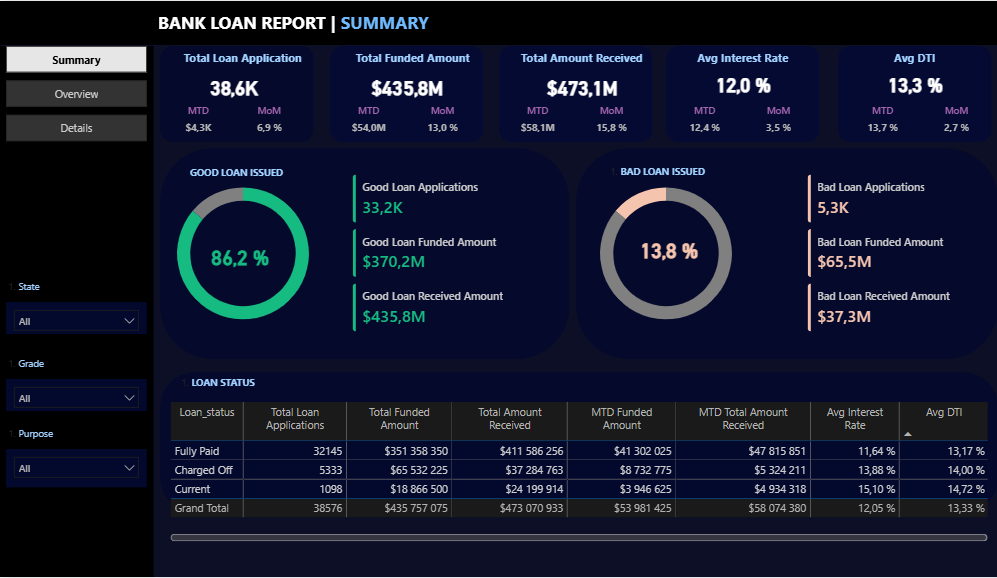

The dashboard page shown, as its layout file describes it:
{"tool":"powerbi","page":{"name":"Summary","canvas":[1280,720],"ordinal":0},"visuals":[{"type":"shape","box":[0,0,1280,55],"z":0},{"type":"shape","box":[200,56,192,120],"z":0,"group":"g2"},{"type":"shape","box":[412,56,192,120],"z":0,"group":"g1"},{"type":"shape","box":[624,56,192,120],"z":0,"group":"g4"},{"type":"shape","box":[832,56,192,120],"z":0,"group":"g3"},{"type":"shape","box":[1048,56,192,120],"z":0,"group":"g5"},{"type":"shape","box":[0,56,192,664],"z":1000},{"type":"textbox","box":[192,8,448,48],"z":2000},{"type":"shape","box":[200,184,512,264],"z":3000},{"type":"group","id":"g1","title":"Group 1","box":[412,56,200,120],"z":4000},{"type":"card","fields":{"Values":["financial.Total Loan Applications"]},"box":[232,80,120,56],"z":4000,"group":"g2"},{"type":"card","fields":{"Values":["financial.Total Funded Amount"]},"box":[444,80,128,56],"z":4000,"group":"g1"},{"type":"card","fields":{"Values":["financial.Total Amount Received"]},"box":[664,80,128,56],"z":4000,"group":"g4"},{"type":"card","fields":{"Values":["financial.Avg Interest Rate"]},"box":[864,80,128,48],"z":4000,"group":"g3"},{"type":"card","fields":{"Values":["financial.Avg DTI"]},"box":[1080,80,128,48],"z":4000,"group":"g5"},{"type":"group","id":"g2","title":"Group 1","box":[200,56,200,120],"z":5000},{"type":"textbox","box":[208,56,192,32],"z":5000,"group":"g2"},{"type":"textbox","box":[420,56,192,32],"z":5000,"group":"g1"},{"type":"textbox","box":[632,56,192,32],"z":5000,"group":"g4"},{"type":"textbox","box":[832,56,192,32],"z":5000,"group":"g3"},{"type":"textbox","box":[1048,56,192,32],"z":5000,"group":"g5"},{"type":"card","title":"MTD","fields":{"Values":["financial.MTD Loan Applications"]},"box":[224,128,48,48],"z":6000,"group":"g2"},{"type":"card","title":"MTD","fields":{"Values":["financial.MTD Funded Amount"]},"box":[428,128,64,48],"z":6000,"group":"g1"},{"type":"card","title":"MTD","fields":{"Values":["financial.MTD Total Amount Received"]},"box":[640,128,64,48],"z":6000,"group":"g4"},{"type":"card","title":"MTD","fields":{"Values":["financial.MTD Avg Int Rate"]},"box":[848,128,64,48],"z":6000,"group":"g3"},{"type":"card","title":"MTD","fields":{"Values":["financial.MTD Avg DTI"]},"box":[1072,128,64,48],"z":6000,"group":"g5"},{"type":"card","fields":{"Values":["financial.Good Loan %"]},"box":[240,296,120,48],"z":6000},{"type":"group","id":"g3","title":"Group 1","box":[832,56,192,120],"z":7000},{"type":"card","title":"MoM","fields":{"Values":["financial.MoM Loan Aplications"]},"box":[312,128,48,48],"z":7000,"group":"g2"},{"type":"card","title":"MoM","fields":{"Values":["financial.MoM Funded Amount"]},"box":[524,128,56,48],"z":7000,"group":"g1"},{"type":"card","title":"MoM","fields":{"Values":["financial.MoM Amount Received"]},"box":[736,128,56,48],"z":7000,"group":"g4"},{"type":"card","title":"MoM","fields":{"Values":["financial.MoM Avg Int Rate"]},"box":[944,128,56,48],"z":7000,"group":"g3"},{"type":"card","title":"MoM","fields":{"Values":["financial.MoM Avg DTI"]},"box":[1168,128,56,48],"z":7000,"group":"g5"},{"type":"group","id":"g4","title":"Group 1","box":[624,56,200,120],"z":8000},{"type":"group","id":"g5","title":"Group 1","box":[1048,56,192,120],"z":9000},{"type":"shape","box":[720,184,528,264],"z":10000},{"type":"donutChart","fields":{"Category":["financial.Good Bad Loans"],"Y":["financial.Total Loan Applications"]},"box":[184,208,240,216],"z":11000},{"type":"textbox","box":[232,200,160,32],"z":12000},{"type":"cardVisual","fields":{"Data":["financial.Good Loan Applications","financial.Good Loan Funded Amount","financial.Good Loan Received Amount"]},"box":[424,200,240,232],"z":13000},{"type":"shape","box":[200,464,1048,176],"z":14000},{"type":"donutChart","fields":{"Category":["financial.Good Bad Loans"],"Y":["financial.Total Loan Applications"]},"box":[712,208,240,216],"z":15000},{"type":"textbox","box":[752,200,168,32],"z":16000},{"type":"card","fields":{"Values":["financial.Bad Loan %"]},"box":[776,288,120,48],"z":17000},{"type":"cardVisual","fields":{"Data":["financial.Bad Loan Applications","financial.Bad Loan Funded Amount","financial.Bad Loan Received Amount"]},"box":[992,200,240,232],"z":18000},{"type":"tableEx","fields":{"Values":["financial.loan_status","financial.Total Loan Applications","financial.Total Funded Amount","financial.Total Amount Received","financial.MTD Funded Amount","financial.MTD Total Amount Received","financial.Avg Interest Rate","financial.Avg DTI"]},"box":[208,496,1032,184],"z":19000},{"type":"textbox","box":[216,464,168,32],"z":20000},{"type":"slicer","fields":{"Values":["financial.address_state"]},"box":[8,376,176,40],"z":21000},{"type":"textbox","box":[0,344,168,32],"z":22000},{"type":"slicer","fields":{"Values":["financial.grade"]},"box":[8,472,176,40],"z":23000},{"type":"textbox","box":[0,440,168,32],"z":24000},{"type":"textbox","box":[0,528,176,32],"z":25000},{"type":"slicer","fields":{"Values":["financial.purpose"]},"box":[8,560,176,48],"z":26000},{"type":"pageNavigator","box":[8,56,176,120],"z":27000}]}

Visuals, with their boxes in screenshot pixels (x1, y1, x2, y2), scaled from the page's 1280x720 canvas onto the 997x578 screenshot:
shape: (x1=0, y1=0, x2=996, y2=44)
shape: (x1=156, y1=45, x2=305, y2=141)
shape: (x1=321, y1=45, x2=470, y2=141)
shape: (x1=486, y1=45, x2=636, y2=141)
shape: (x1=648, y1=45, x2=798, y2=141)
shape: (x1=816, y1=45, x2=966, y2=141)
shape: (x1=0, y1=45, x2=150, y2=577)
textbox: (x1=150, y1=6, x2=498, y2=45)
shape: (x1=156, y1=148, x2=555, y2=360)
"Group 1" group: (x1=321, y1=45, x2=477, y2=141)
card - financial.Total Loan Applications: (x1=181, y1=64, x2=274, y2=109)
card - financial.Total Funded Amount: (x1=346, y1=64, x2=446, y2=109)
card - financial.Total Amount Received: (x1=517, y1=64, x2=617, y2=109)
card - financial.Avg Interest Rate: (x1=673, y1=64, x2=773, y2=103)
card - financial.Avg DTI: (x1=841, y1=64, x2=941, y2=103)
"Group 1" group: (x1=156, y1=45, x2=312, y2=141)
textbox: (x1=162, y1=45, x2=312, y2=71)
textbox: (x1=327, y1=45, x2=477, y2=71)
textbox: (x1=492, y1=45, x2=642, y2=71)
textbox: (x1=648, y1=45, x2=798, y2=71)
textbox: (x1=816, y1=45, x2=966, y2=71)
"MTD" card: (x1=174, y1=103, x2=212, y2=141)
"MTD" card: (x1=333, y1=103, x2=383, y2=141)
"MTD" card: (x1=498, y1=103, x2=548, y2=141)
"MTD" card: (x1=661, y1=103, x2=710, y2=141)
"MTD" card: (x1=835, y1=103, x2=885, y2=141)
card - financial.Good Loan %: (x1=187, y1=238, x2=280, y2=276)
"Group 1" group: (x1=648, y1=45, x2=798, y2=141)
"MoM" card: (x1=243, y1=103, x2=280, y2=141)
"MoM" card: (x1=408, y1=103, x2=452, y2=141)
"MoM" card: (x1=573, y1=103, x2=617, y2=141)
"MoM" card: (x1=735, y1=103, x2=779, y2=141)
"MoM" card: (x1=910, y1=103, x2=953, y2=141)
"Group 1" group: (x1=486, y1=45, x2=642, y2=141)
"Group 1" group: (x1=816, y1=45, x2=966, y2=141)
shape: (x1=561, y1=148, x2=972, y2=360)
donutChart - financial.Good Bad Loans x financial.Total Loan Applications: (x1=143, y1=167, x2=330, y2=340)
textbox: (x1=181, y1=161, x2=305, y2=186)
cardVisual - financial.Good Loan Applications x financial.Good Loan Funded Amount: (x1=330, y1=161, x2=517, y2=347)
shape: (x1=156, y1=372, x2=972, y2=514)
donutChart - financial.Good Bad Loans x financial.Total Loan Applications: (x1=555, y1=167, x2=742, y2=340)
textbox: (x1=586, y1=161, x2=717, y2=186)
card - financial.Bad Loan %: (x1=604, y1=231, x2=698, y2=270)
cardVisual - financial.Bad Loan Applications x financial.Bad Loan Funded Amount: (x1=773, y1=161, x2=960, y2=347)
tableEx - financial.loan_status x financial.Total Loan Applications: (x1=162, y1=398, x2=966, y2=546)
textbox: (x1=168, y1=372, x2=299, y2=398)
slicer - financial.address_state: (x1=6, y1=302, x2=143, y2=334)
textbox: (x1=0, y1=276, x2=131, y2=302)
slicer - financial.grade: (x1=6, y1=379, x2=143, y2=411)
textbox: (x1=0, y1=353, x2=131, y2=379)
textbox: (x1=0, y1=424, x2=137, y2=450)
slicer - financial.purpose: (x1=6, y1=450, x2=143, y2=488)
pageNavigator: (x1=6, y1=45, x2=143, y2=141)
